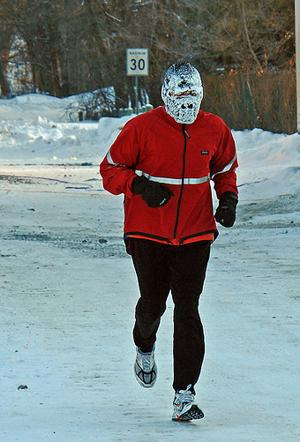person: (99, 64, 238, 423)
